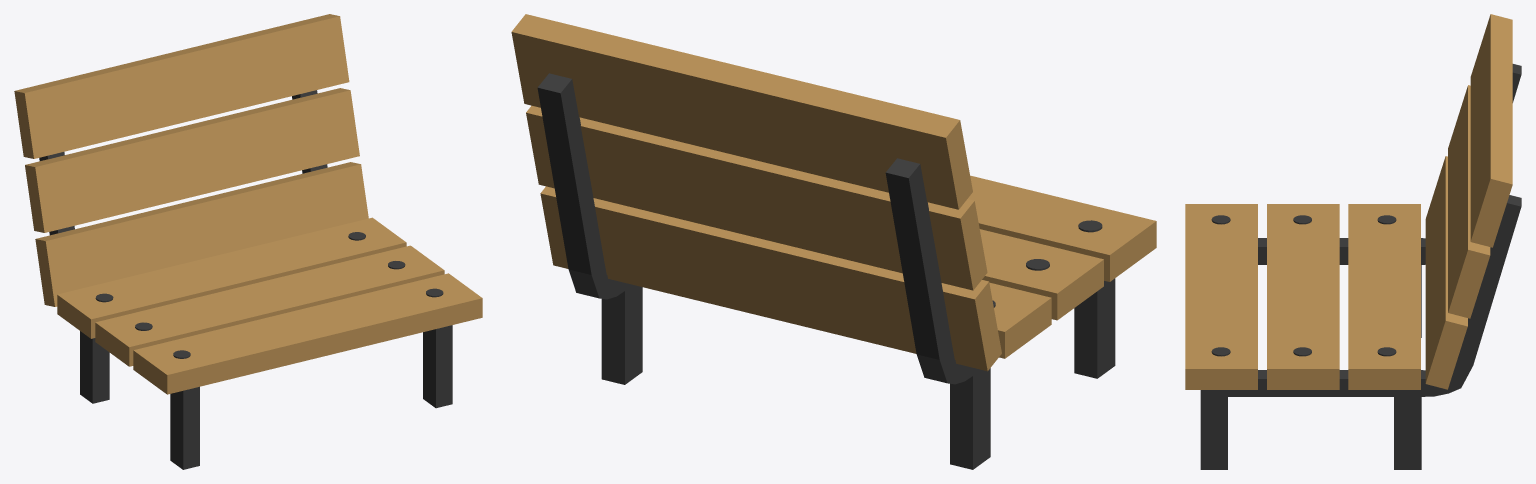
The model's file is low-poly-bench.fbx.
The picture shows the model from 3 angles, left to right: view 1: azimuth 30°, elevation 25°; view 2: azimuth 150°, elevation 25°; view 3: azimuth 270°, elevation 25°; orthographic projection. The views are drawn at different scales.
Parts seen in each view (by area): view 1: Bench; view 2: Bench; view 3: Bench.
Boxes of the visible parts, left/top/right/bottom form: Bench: left=14, top=14, right=482, bottom=469; Bench: left=511, top=14, right=1156, bottom=469; Bench: left=1185, top=14, right=1521, bottom=469.
Bounding box in the file's own units: 557 × 478 × 480.
